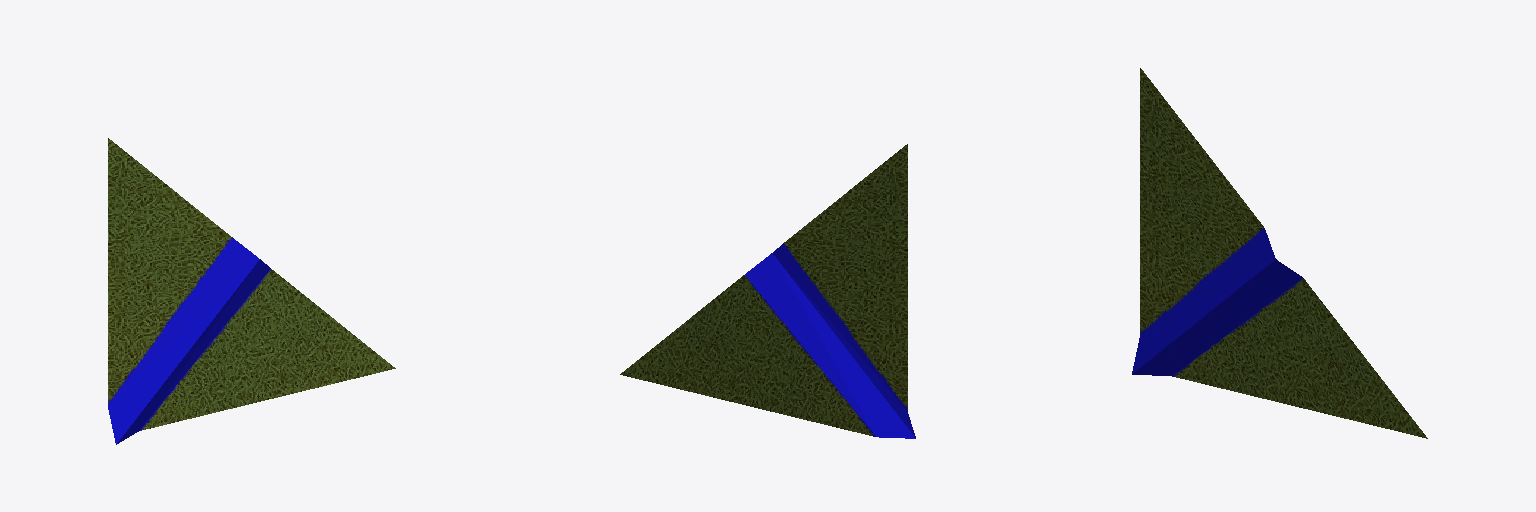
3 views of the same model, side by side, from view 1: azimuth 30°, elevation 25°; view 2: azimuth 150°, elevation 25°; view 3: azimuth 330°, elevation 25° (orthographic).
Parts seen in each view (by area): view 1: RiverForward_Plane.002; view 2: RiverForward_Plane.002; view 3: RiverForward_Plane.002.
Boxes of the visible parts, box(x1,y1,x2,y2) form: RiverForward_Plane.002: box(108, 138, 395, 444); RiverForward_Plane.002: box(620, 144, 915, 438); RiverForward_Plane.002: box(1132, 68, 1427, 438).
Bounding box in the file's own units: 1 × 1 × 0.05.
1 materials, 1 textured.